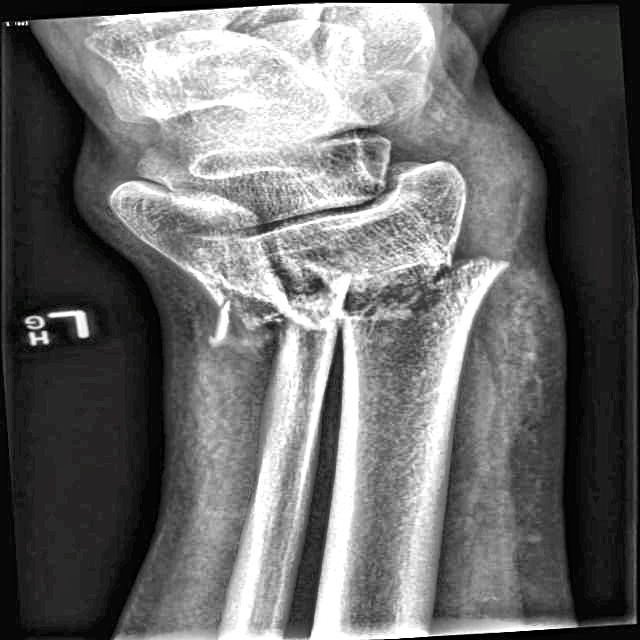Comminuted: (321, 252, 527, 338), (207, 277, 331, 367)
